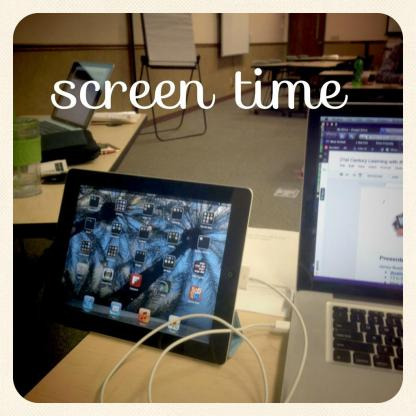board: (292, 104, 411, 403), (38, 61, 114, 136), (353, 56, 363, 89)
